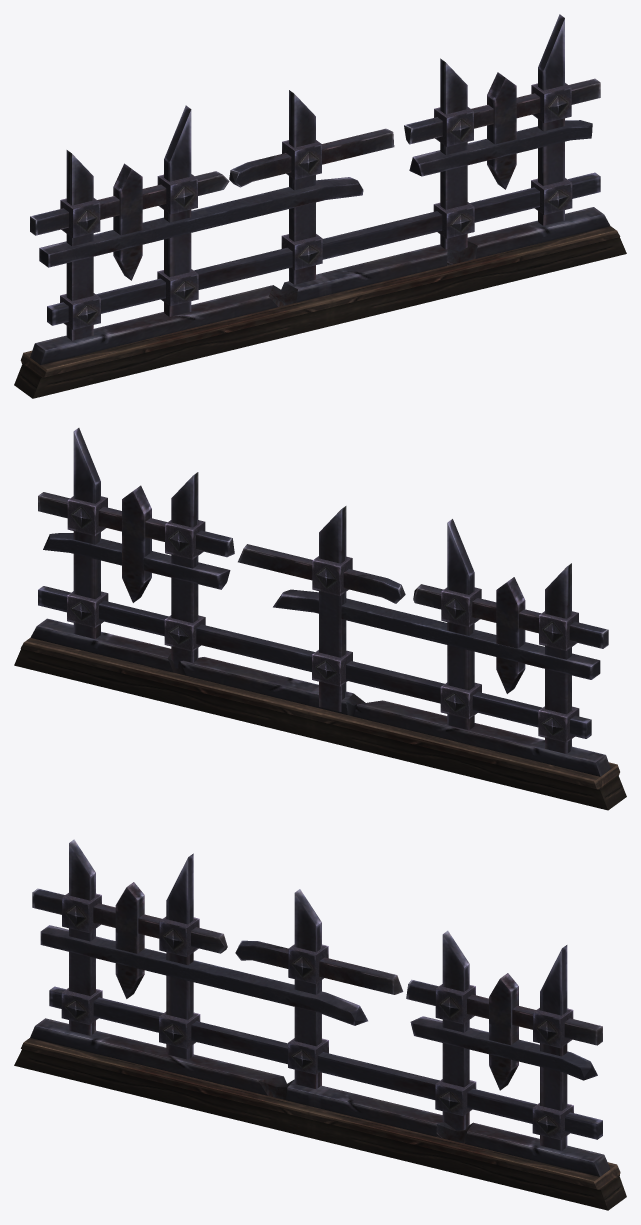
The model's file is B_zudangmen01.fbx.
3 views of the same model, one above another, from view 1: azimuth 30°, elevation 25°; view 2: azimuth 150°, elevation 25°; view 3: azimuth 330°, elevation 25° (orthographic).
Visible parts, largest first — view 1: B_zudangmen01; view 2: B_zudangmen01; view 3: B_zudangmen01.
Part boxes in pixels (bbox=[...]): B_zudangmen01: bbox=[14, 14, 626, 398]; B_zudangmen01: bbox=[14, 428, 626, 810]; B_zudangmen01: bbox=[14, 839, 626, 1210].
Bounding box in the file's own units: 454 × 178 × 31.14.
